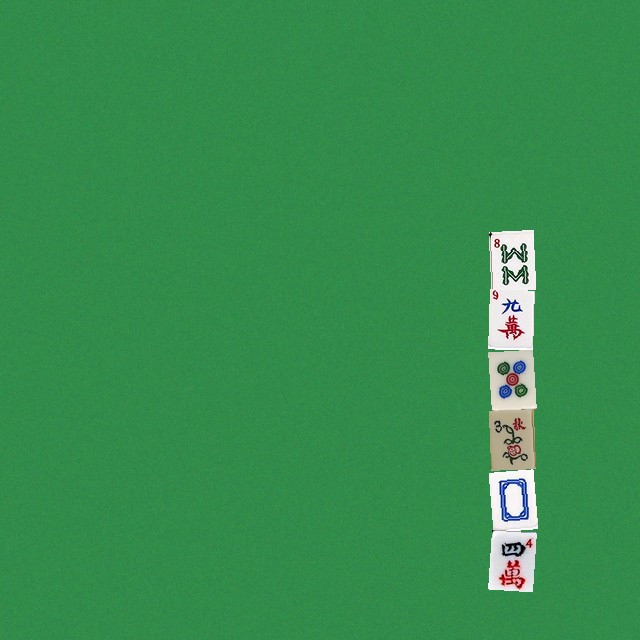tile: (488, 229, 533, 289), (488, 289, 533, 349), (488, 349, 533, 409), (488, 409, 533, 469), (488, 469, 533, 529), (488, 529, 533, 589)
